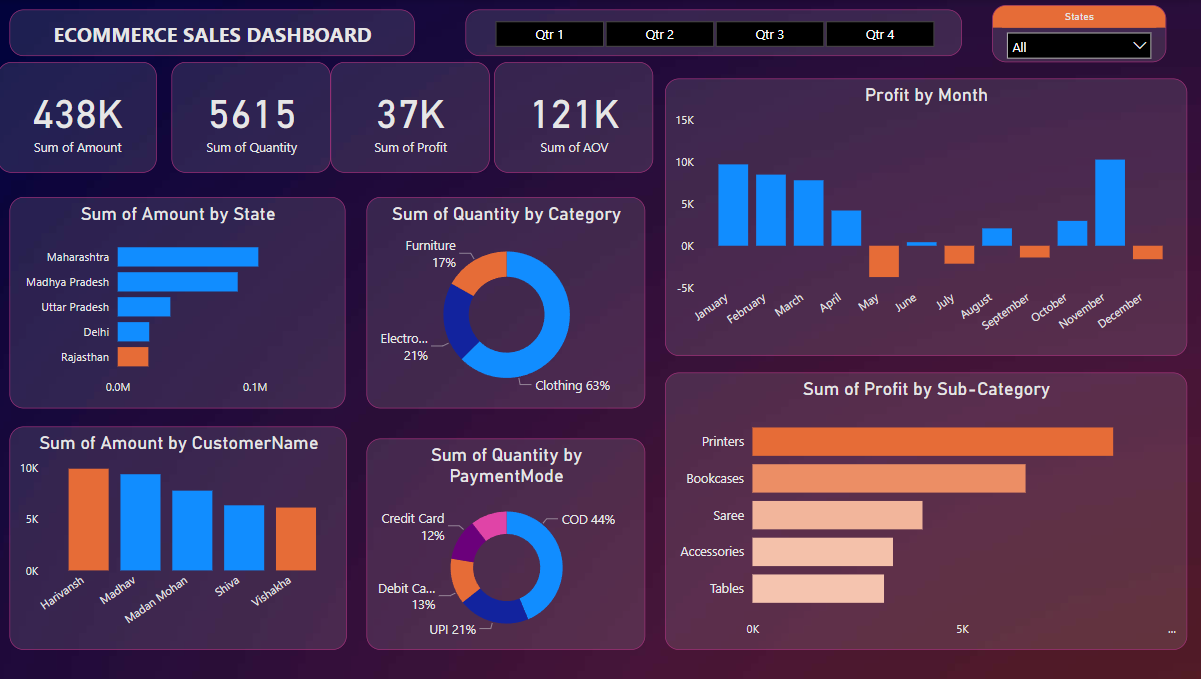

What the dashboard file says about the page in this screenshot:
{"tool":"powerbi","page":{"name":"Page 1","canvas":[1280,720],"ordinal":0},"visuals":[{"type":"textbox","box":[14.3,11.1,429.1,49.3],"z":0},{"type":"columnChart","title":"Profit by Month","fields":{"Category":["Orders.Order Date.Variation.Date Hierarchy.Month"],"Y":["Sum(Details.Profit)"]},"box":[708.9,84.2,553.1,294],"z":1000},{"type":"barChart","fields":{"Category":["Details.Sub-Category"],"Y":["Sum(Details.Profit)"]},"box":[708.9,395.8,553.1,294],"z":2000},{"type":"donutChart","fields":{"Category":["Details.Category"],"Y":["Sum(Details.Quantity)"]},"box":[392.6,209.8,295.6,224.1],"z":3000},{"type":"donutChart","fields":{"Y":["Sum(Details.Quantity)"],"Category":["Details.PaymentMode"]},"box":[392.6,465.7,295.6,224.1],"z":4000},{"type":"card","fields":{"Values":["Sum(Details.Amount)"]},"box":[1.6,66.8,168.5,117.6],"z":5000},{"type":"card","fields":{"Values":["Sum(Details.Quantity)"]},"box":[186,66.8,168.5,117.6],"z":6000},{"type":"card","fields":{"Values":["Sum(Details.Profit)"]},"box":[354.4,66.8,168.5,117.6],"z":7000},{"type":"card","fields":{"Values":["Sum(Details.AOV)"]},"box":[527.7,66.8,168.5,117.6],"z":8000},{"type":"barChart","fields":{"Category":["Orders.State"],"Y":["Sum(Details.Amount)"]},"box":[14.3,209.8,356,224.1],"z":9000},{"type":"columnChart","fields":{"Category":["Orders.CustomerName"],"Y":["Sum(Details.Amount)"]},"box":[14.3,453,357.6,236.8],"z":10000},{"type":"slicer","fields":{"Values":["Orders.Order Date.Variation.Date Hierarchy.Quarter"]},"box":[497.5,11.1,526.1,49.3],"z":10001},{"type":"slicer","title":"States","fields":{"Values":["Orders.State"]},"box":[1055.4,6.4,184.4,60.4],"z":10002}]}

Visuals, with their boxes in screenshot pixels (x1, y1, x2, y2), scaled from the page's 1280x720 canvas onto the 1201x679 screenshot:
textbox: (left=13, top=10, right=416, bottom=57)
"Profit by Month" columnChart: (left=665, top=79, right=1184, bottom=357)
barChart - Details.Sub-Category x Sum(Details.Profit): (left=665, top=373, right=1184, bottom=651)
donutChart - Details.Category x Sum(Details.Quantity): (left=368, top=198, right=646, bottom=409)
donutChart - Sum(Details.Quantity) x Details.PaymentMode: (left=368, top=439, right=646, bottom=651)
card - Sum(Details.Amount): (left=2, top=63, right=160, bottom=174)
card - Sum(Details.Quantity): (left=175, top=63, right=333, bottom=174)
card - Sum(Details.Profit): (left=333, top=63, right=491, bottom=174)
card - Sum(Details.AOV): (left=495, top=63, right=653, bottom=174)
barChart - Orders.State x Sum(Details.Amount): (left=13, top=198, right=347, bottom=409)
columnChart - Orders.CustomerName x Sum(Details.Amount): (left=13, top=427, right=349, bottom=651)
slicer - Orders.Order Date.Variation.Date Hierarchy.Quarter: (left=467, top=10, right=960, bottom=57)
"States" slicer: (left=990, top=6, right=1163, bottom=63)
